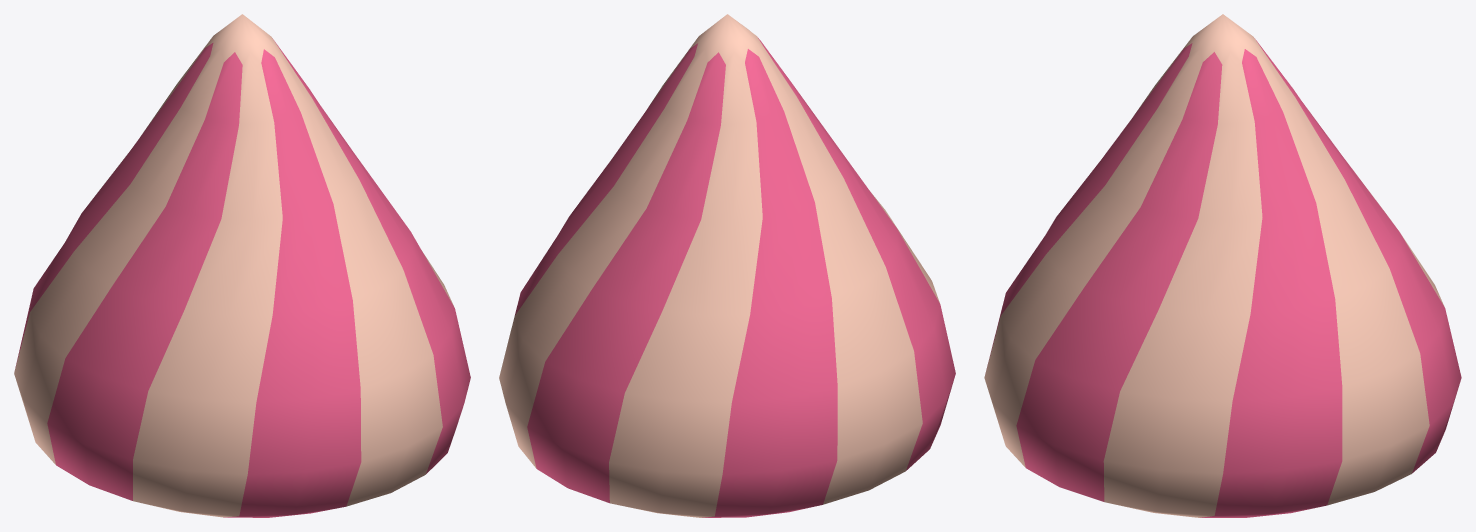
The model's file is Candy_C_01.fbx.
3 views of the same model, side by side, from view 1: azimuth 30°, elevation 25°; view 2: azimuth 150°, elevation 25°; view 3: azimuth 270°, elevation 25° (orthographic).
Visible parts, largest first — view 1: Candy_C_01_LOD0; view 2: Candy_C_01_LOD0; view 3: Candy_C_01_LOD0.
Part boxes in pixels (x1,y1,x2,y2): Candy_C_01_LOD0: (14,14,470,517); Candy_C_01_LOD0: (499,14,955,517); Candy_C_01_LOD0: (984,14,1461,517).
Size of what is drawn, in the model's own units: 312 by 330 by 328.
